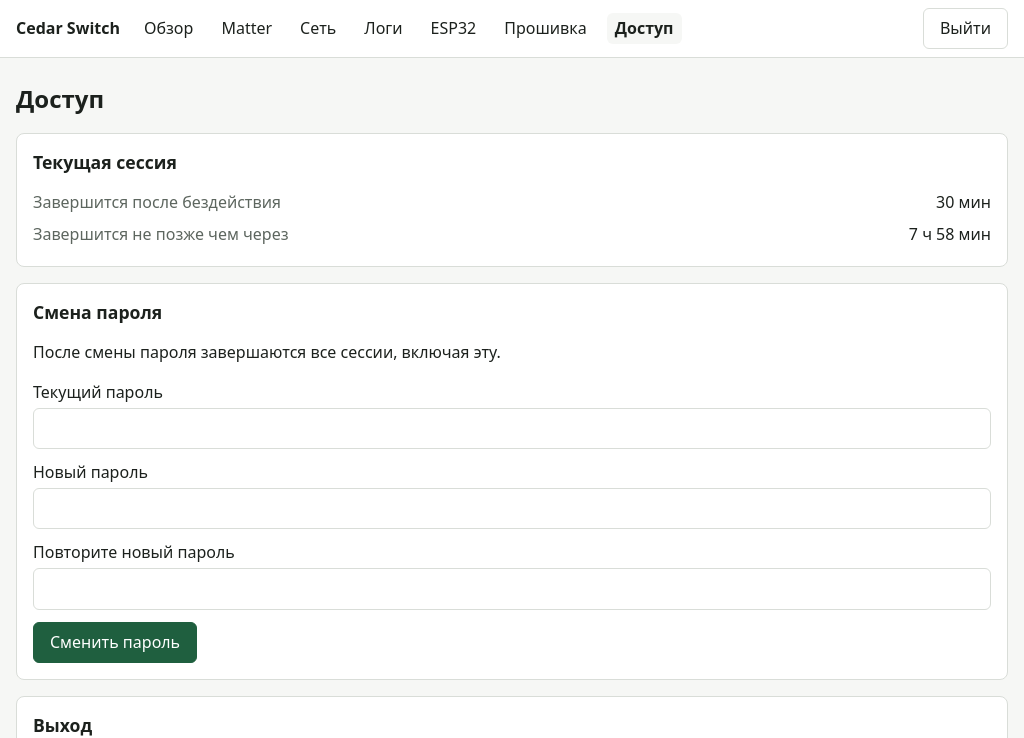
access › reports a wrong current password at that field
The image size is (1024, 738).
Type "not the password" into the password field labelled "Текущий пароль". click: (512, 428)
box: x1=33 y1=408 x2=991 y2=449
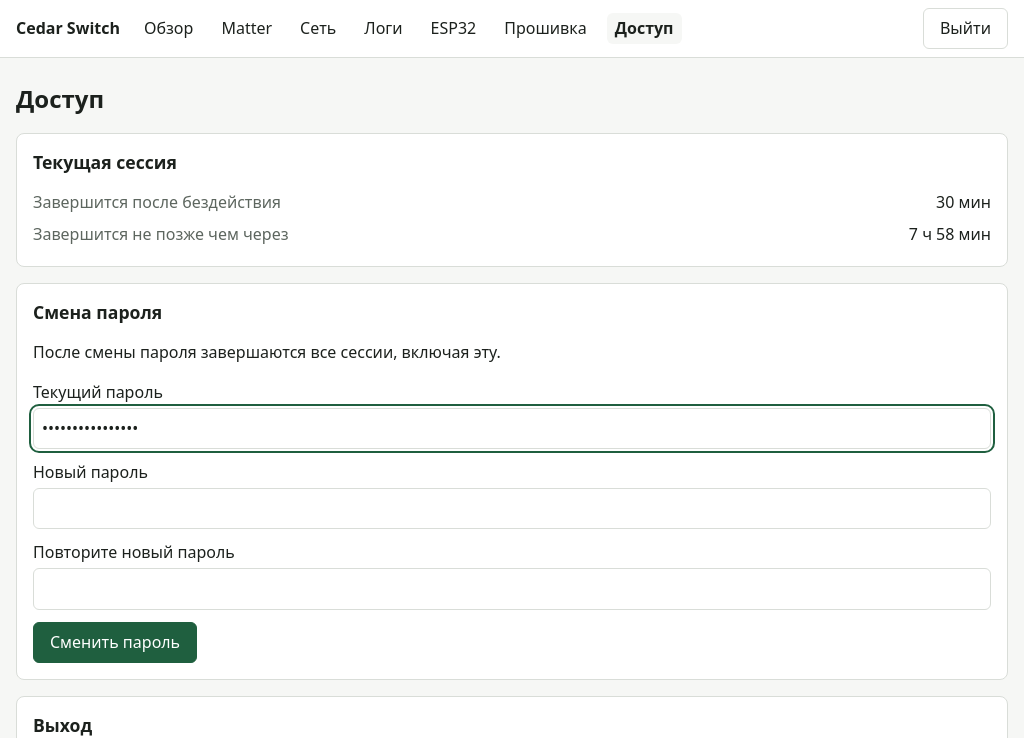
Type "a brand new password" into the password field labelled "Новый пароль". click: (512, 509)
box: x1=33 y1=488 x2=991 y2=529
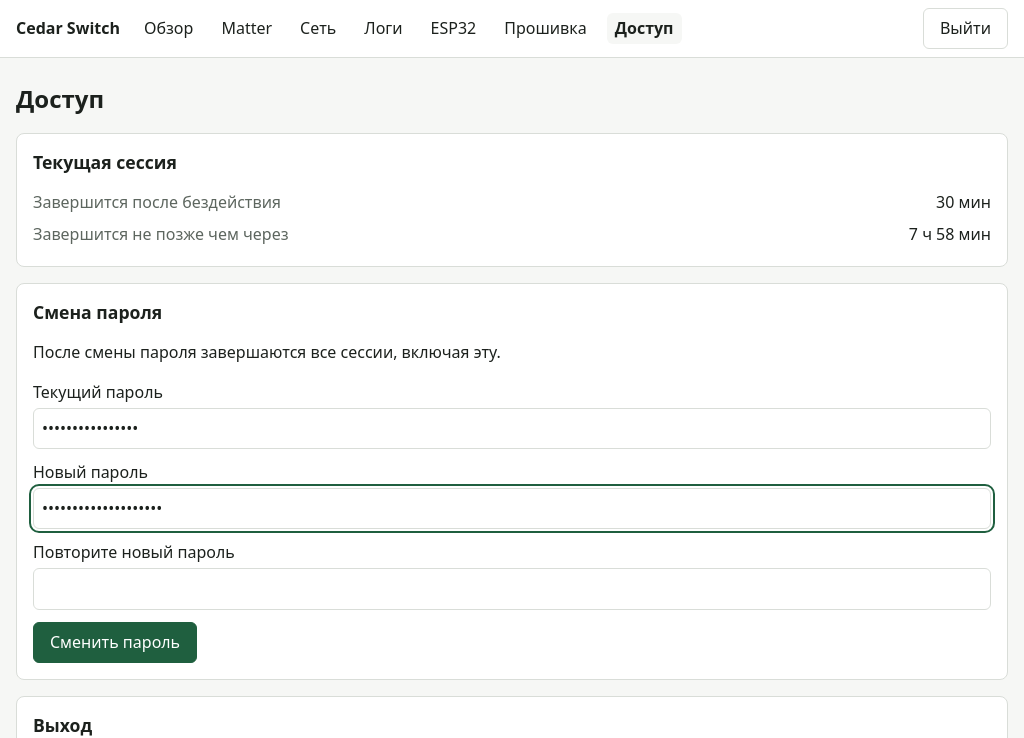
Type "a brand new password" into the password field labelled "Повторите новый пароль". click: (512, 589)
box: x1=33 y1=568 x2=991 y2=610
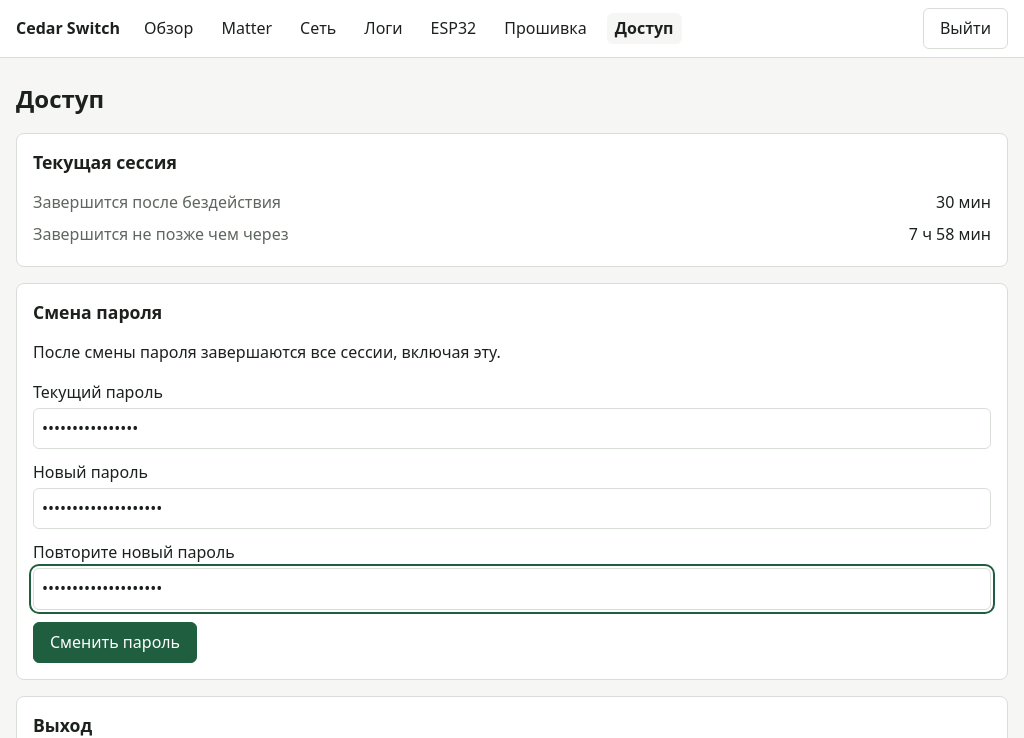
Click the button "Сменить пароль". click: (115, 642)
box: x1=33 y1=622 x2=197 y2=663
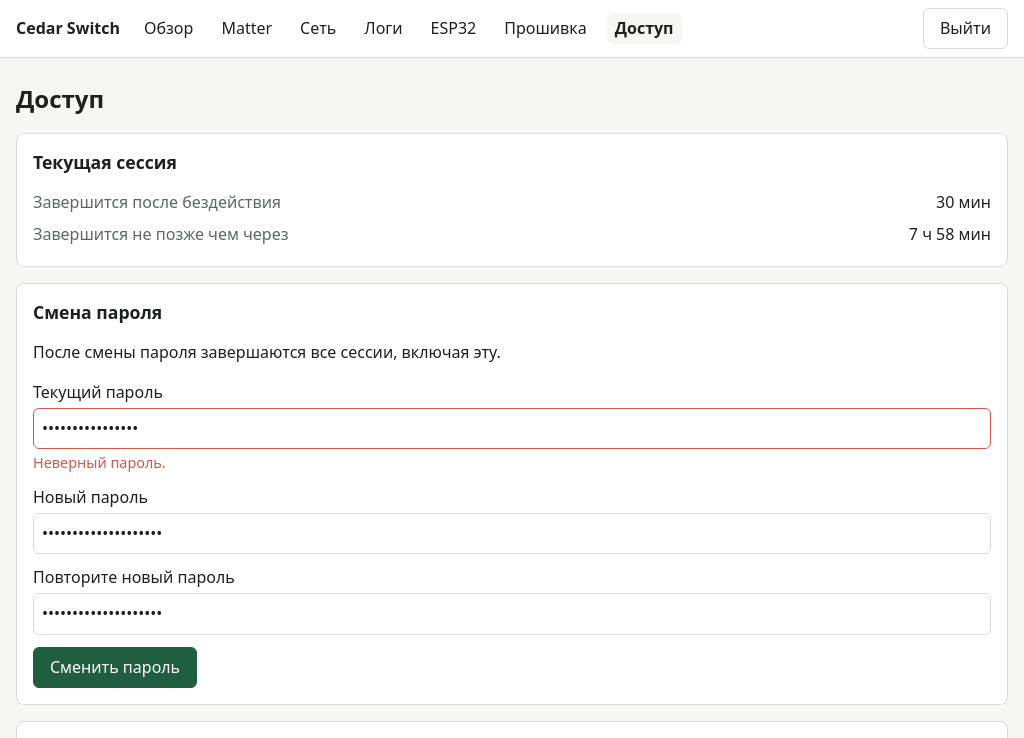
Check: the text "Неверный пароль." is shown, box x1=33 y1=453 x2=166 y2=472
